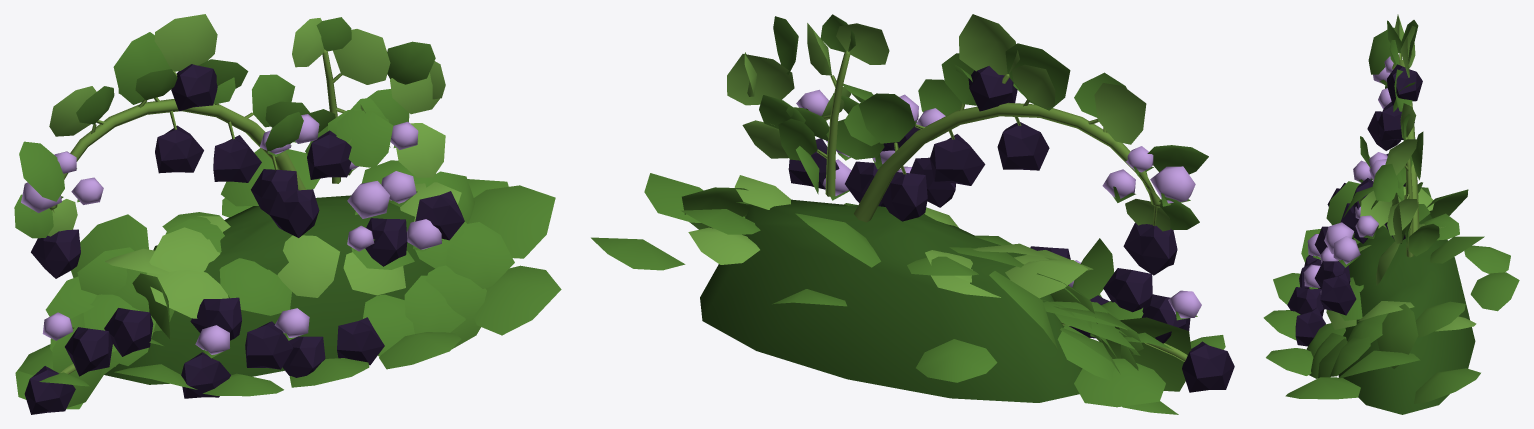
The model's file is bramble-charming.glb.
3 renders of one model, left to right at view 1: azimuth 30°, elevation 25°; view 2: azimuth 150°, elevation 25°; view 3: azimuth 270°, elevation 25°, orthographic. The views are drawn at different scales.
Visible parts, largest first — view 1: leaves_dark, berries, leaves_light, mound_core, buds, canes; view 2: mound_core, leaves_dark, leaves_light, berries, canes, buds; view 3: leaves_dark, mound_core, berries, leaves_light, buds, canes.
Boxes of the visible parts, x1,y1,x2,y2 form: leaves_dark: (14, 17, 561, 409); berries: (24, 64, 464, 414); leaves_light: (47, 14, 461, 318); mound_core: (104, 195, 434, 384); buds: (21, 114, 441, 354); canes: (49, 49, 345, 374); mound_core: (700, 199, 1082, 402); leaves_dark: (591, 14, 1225, 414); leaves_light: (688, 14, 1170, 298); berries: (788, 66, 1234, 392); canes: (817, 51, 1187, 361); buds: (796, 89, 1201, 318); leaves_dark: (1263, 20, 1519, 403); mound_core: (1338, 214, 1475, 414); berries: (1287, 64, 1422, 346); leaves_light: (1326, 14, 1476, 331); buds: (1303, 55, 1399, 294); canes: (1392, 53, 1419, 257).
Size of the model in its own units: 2.12 by 1.3 by 1.06.
